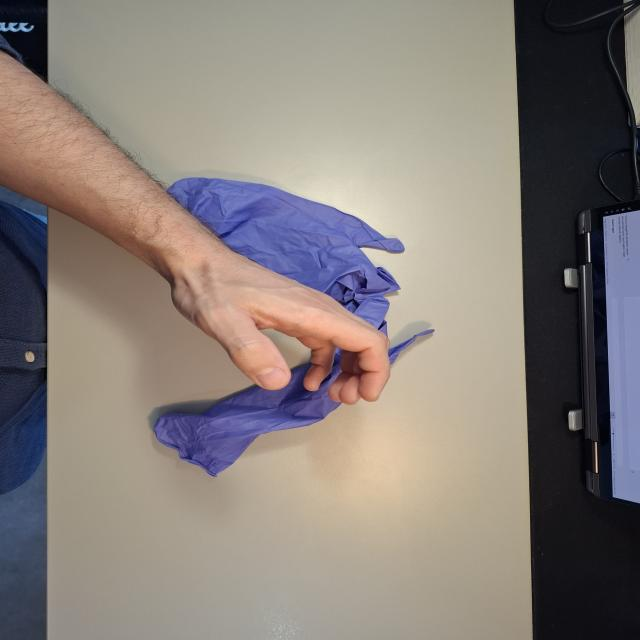glove_off: (165, 249, 393, 405)
